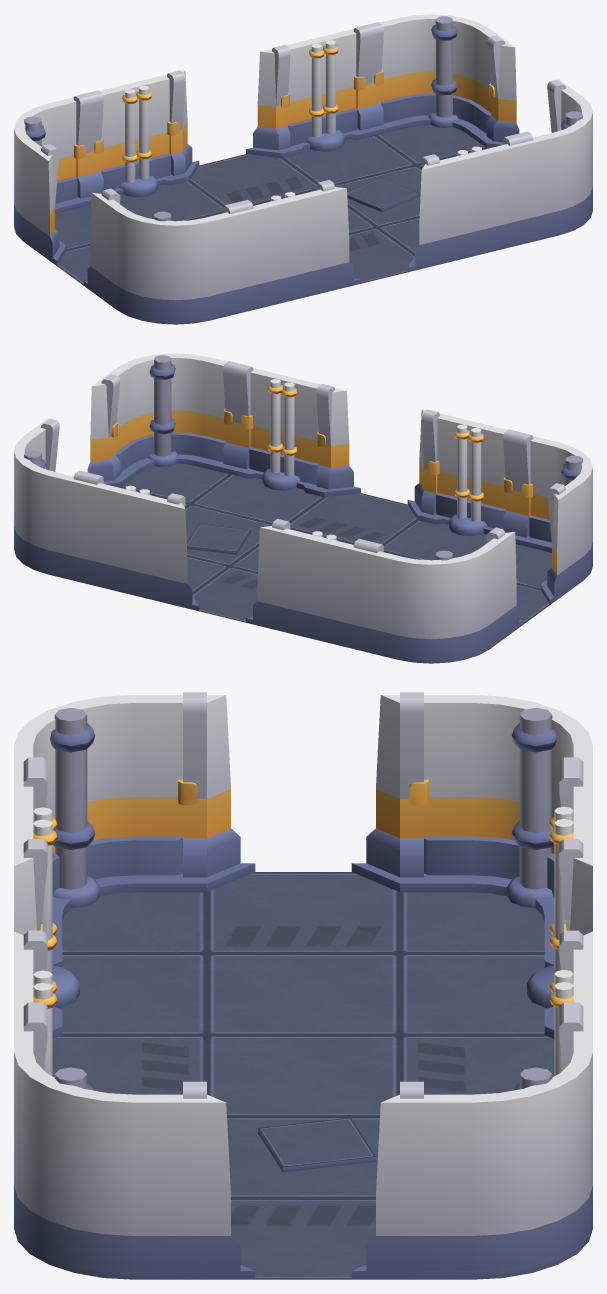
Rendered from kenney-space-room-wide.glb.
The picture shows the model from 3 angles, top to bottom: view 1: azimuth 30°, elevation 25°; view 2: azimuth 150°, elevation 25°; view 3: azimuth 270°, elevation 25°; orthographic projection. The views are drawn at different scales.
Parts seen in each view (by area): view 1: room-wide; view 2: room-wide; view 3: room-wide.
Part boxes in pixels (x1,y1,x2,y2): room-wide: (14,14,592,324); room-wide: (14,353,592,663); room-wide: (14,692,592,1279).
Size of the model in its own units: 15 by 3.19 by 9.
Materials: 1 (1 with a texture image).
